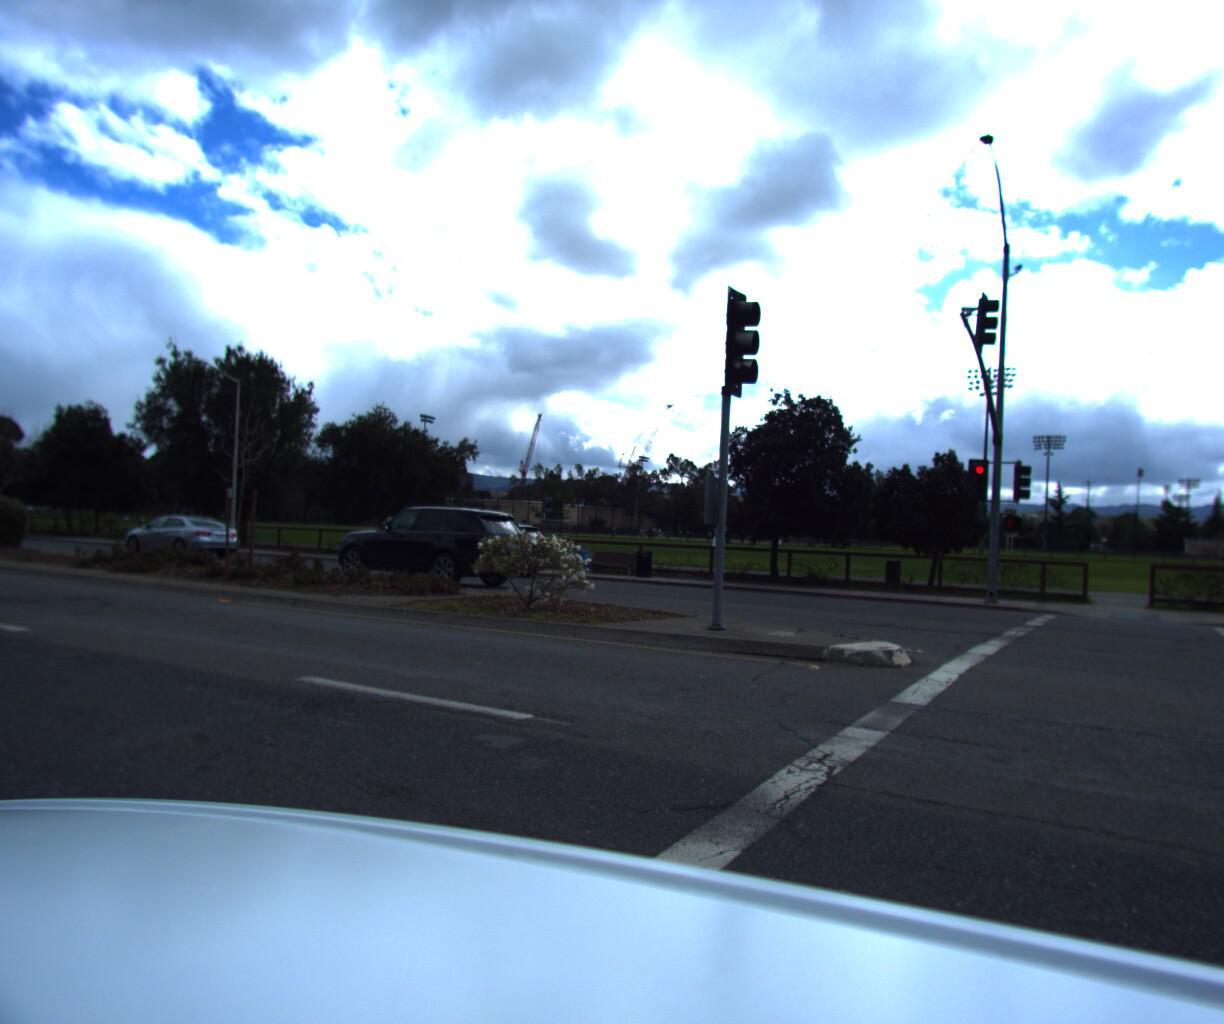car: (322, 499, 545, 594), (401, 517, 561, 582), (114, 509, 252, 567)
